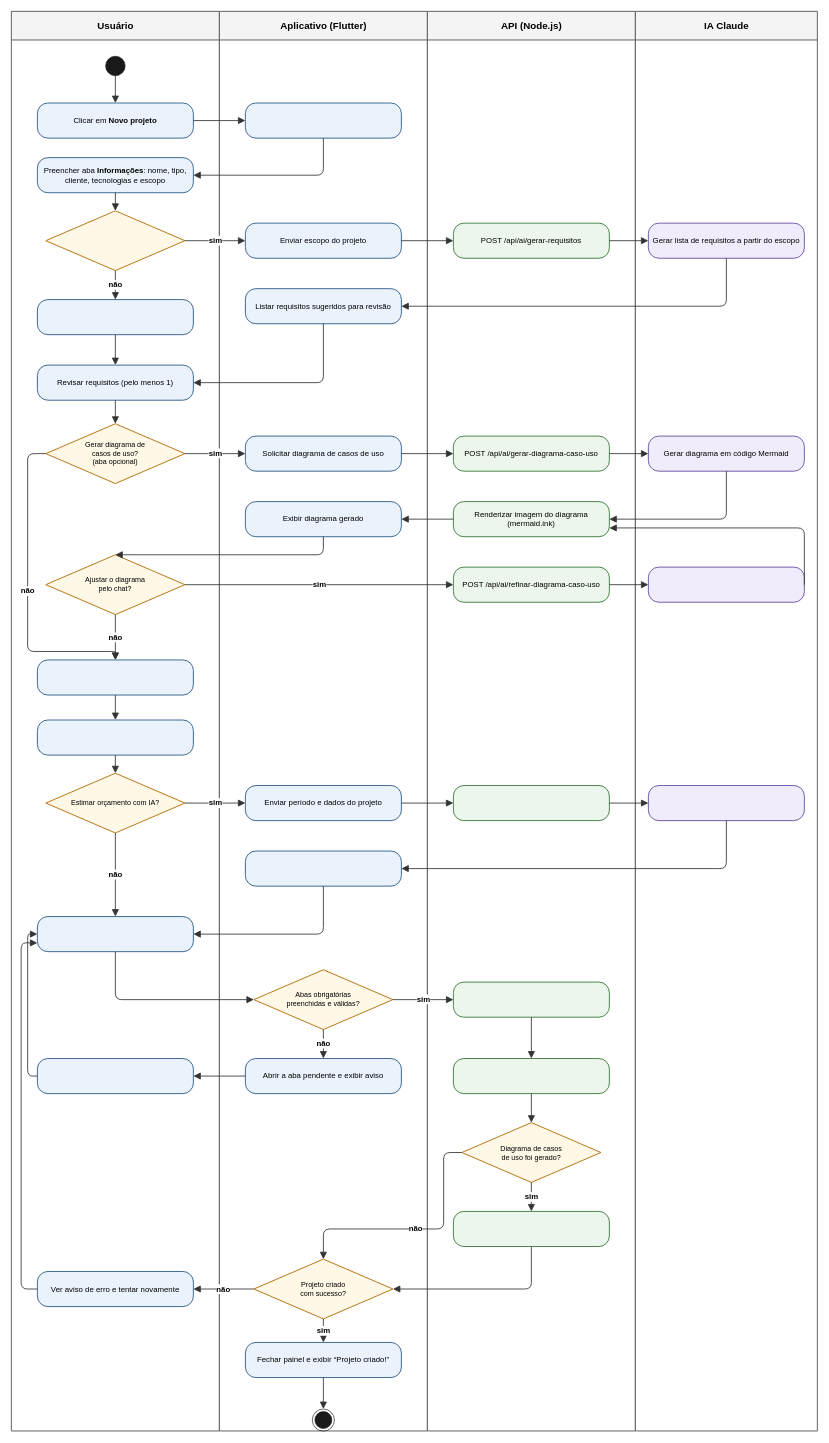
The diagram is 829 pixels wide and 1443 high, and some of its shapes have lost their labels. Each missing label, with the centre of its shape:
"Abrir painel de criação com 5 abas" goes at pixel 323 120.
"Ajustar diagrama conforme o pedido" goes at pixel 726 584.
"Cadastrar requisitos manualmente" goes at pixel 115 317.
"Clicar em Criar projeto" goes at pixel 115 934.
"Corrigir os dados da aba indicada" goes at pixel 115 1076.
"Definir período e orçamento do projeto" goes at pixel 115 737.
"Estimar orçamento do projeto" goes at pixel 726 803.
"Gerar requisitos com IA?" goes at pixel 115 240.
"Montar equipe (pelo menos 1 pessoa) e alocar recursos" goes at pixel 115 677.
"POST /api/ai/estimar-orcamento" goes at pixel 531 803.
"POST /api/projetos (gravar projeto)" goes at pixel 531 999.
"Preencher orçamento sugerido" goes at pixel 323 868.
"Salvar diagrama como documento do projeto" goes at pixel 531 1229.
"Vincular tecnologias, equipe, recursos e requisitos (tabelas associativas)" goes at pixel 531 1076.
